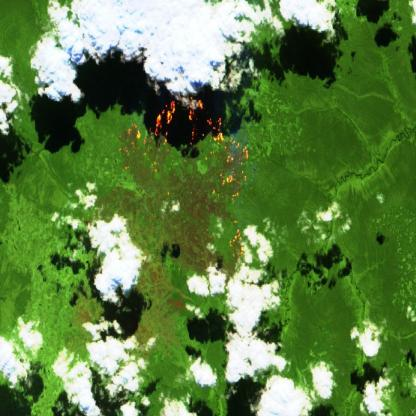fire: (121, 88, 253, 274)
